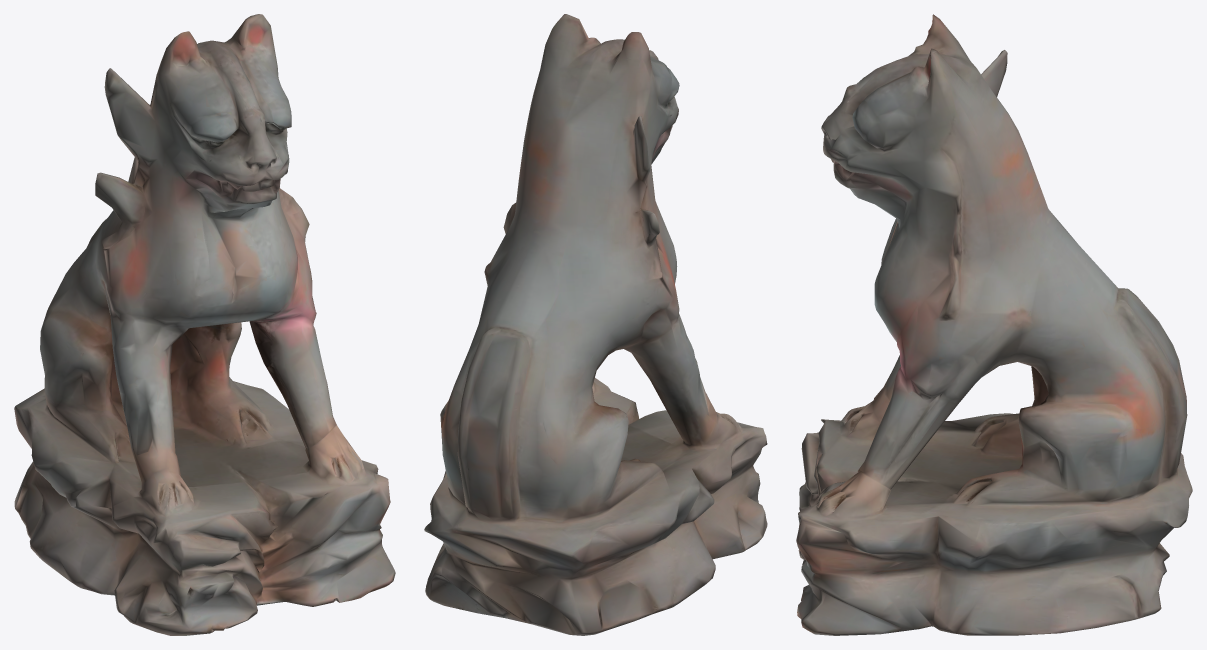
3 renders of one model, left to right at view 1: azimuth 30°, elevation 25°; view 2: azimuth 150°, elevation 25°; view 3: azimuth 270°, elevation 25°, orthographic. The views are drawn at different scales.
Visible parts, largest first — view 1: node_0; view 2: node_0; view 3: node_0.
Boxes of the visible parts, bbox=[...] form: node_0: bbox=[14, 14, 395, 635]; node_0: bbox=[424, 14, 767, 635]; node_0: bbox=[796, 14, 1192, 635].
Bounding box in the file's own units: 0.4612 × 0.9615 × 0.6313.
Materials: 1 (1 with a texture image).
